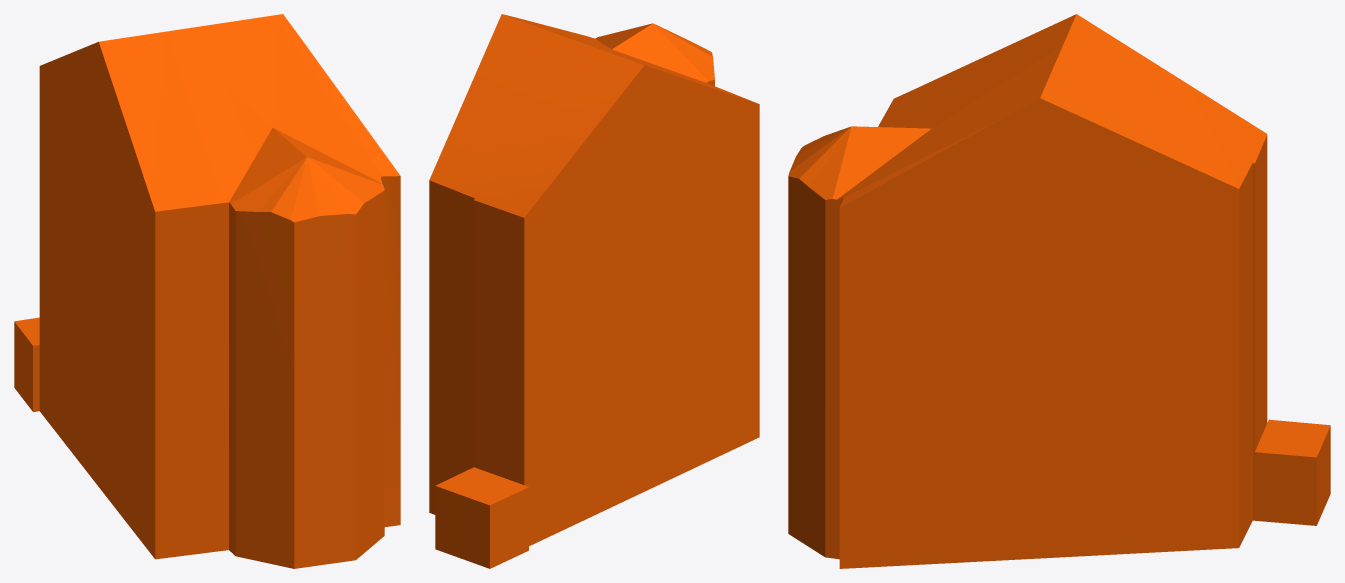
File: DEHB01ALn0001OXV.dae
The picture shows the model from 3 angles, left to right: view 1: azimuth 30°, elevation 25°; view 2: azimuth 150°, elevation 25°; view 3: azimuth 270°, elevation 25°; orthographic projection. The views are drawn at different scales.
Bounding box in the file's own units: 8.03 × 16.64 × 15.58.
